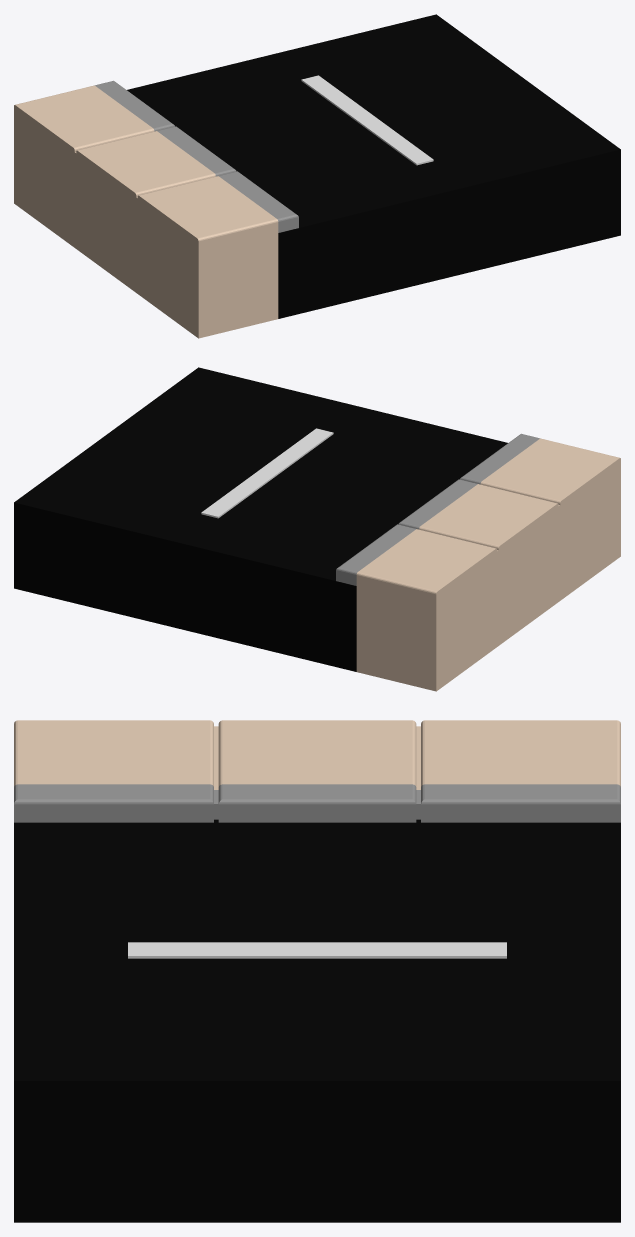
The model's file is route + trottoir.fbx.
3 views of the same model, one above another, from view 1: azimuth 30°, elevation 25°; view 2: azimuth 150°, elevation 25°; view 3: azimuth 270°, elevation 25° (orthographic). The views are drawn at different scales.
Parts seen in each view (by area): view 1: Plane.001; view 2: Plane.001; view 3: Plane.001.
Boxes of the visible parts, box(x1,y1,x2,y2) form: Plane.001: box(14, 14, 620, 338); Plane.001: box(14, 367, 620, 691); Plane.001: box(14, 720, 620, 1222).
Size of the model in its own units: 859 by 193 by 650.
